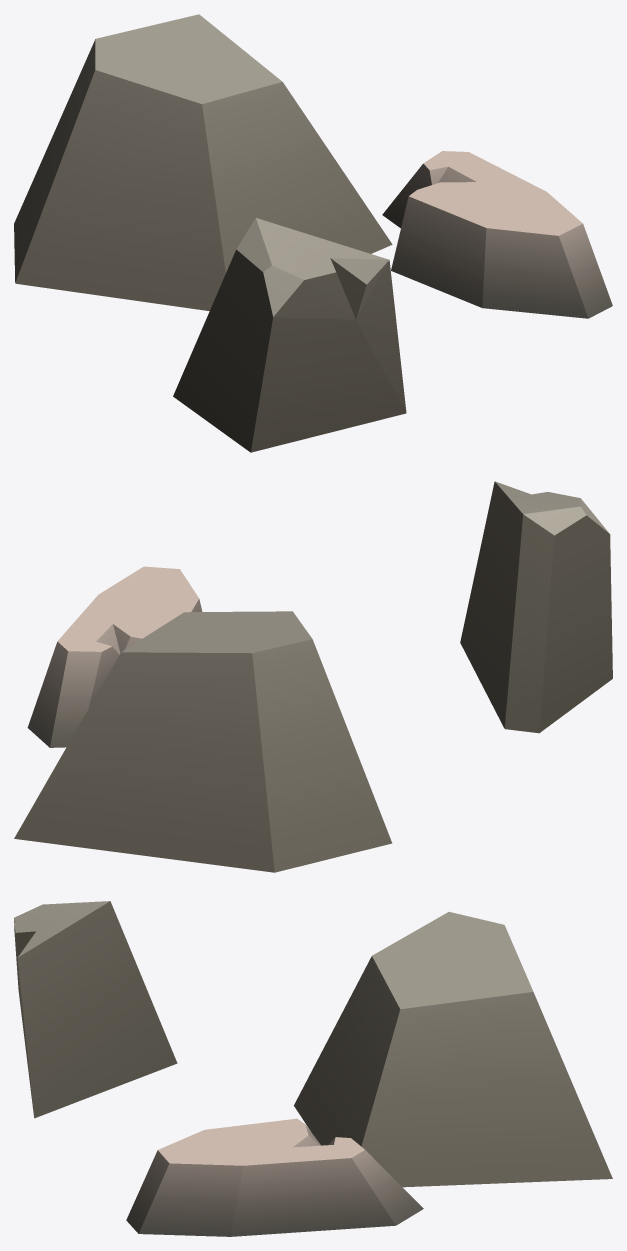
Rendered from Rock_Cluster_2B.fbx.
3 renders of one model, top to bottom at view 1: azimuth 30°, elevation 25°; view 2: azimuth 150°, elevation 25°; view 3: azimuth 270°, elevation 25°, orthographic. The views are drawn at different scales.
Parts seen in each view (by area): view 1: Rock_Cluster_2B; view 2: Rock_Cluster_2B; view 3: Rock_Cluster_2B.
Boxes of the visible parts, x1,y1,x2,y2 form: Rock_Cluster_2B: [14, 14, 612, 452]; Rock_Cluster_2B: [14, 481, 612, 872]; Rock_Cluster_2B: [14, 901, 612, 1236].
Bounding box in the file's own units: 93.1 × 39.84 × 125.
